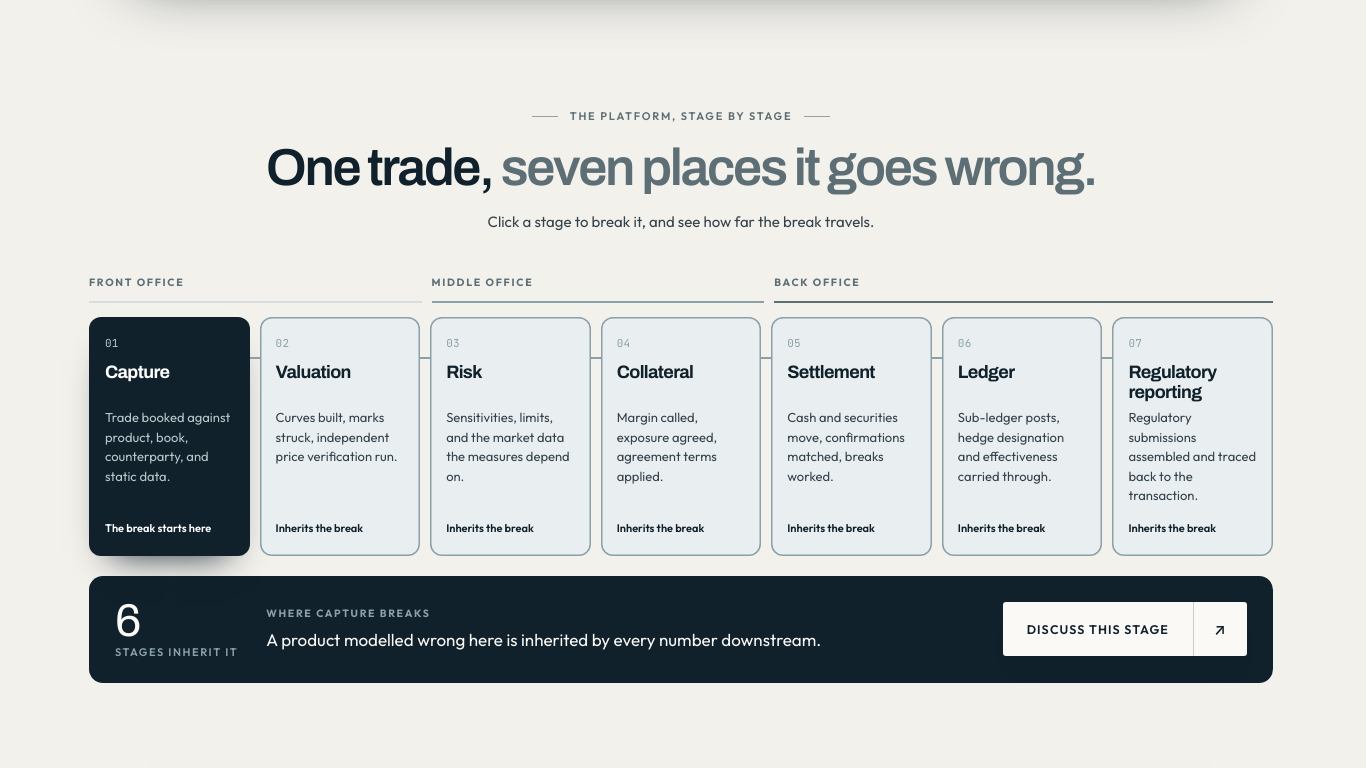
it: Nasdaq Calypso page › breaks a stage and shows how far the break travels
(page scrolled)
Expected: the text with test id "lifecycle-count" reads "6", x1=115 y1=596 x2=139 y2=646
Click the button that starts with "Collateral": (681, 436) x1=601 y1=317 x2=761 y2=556
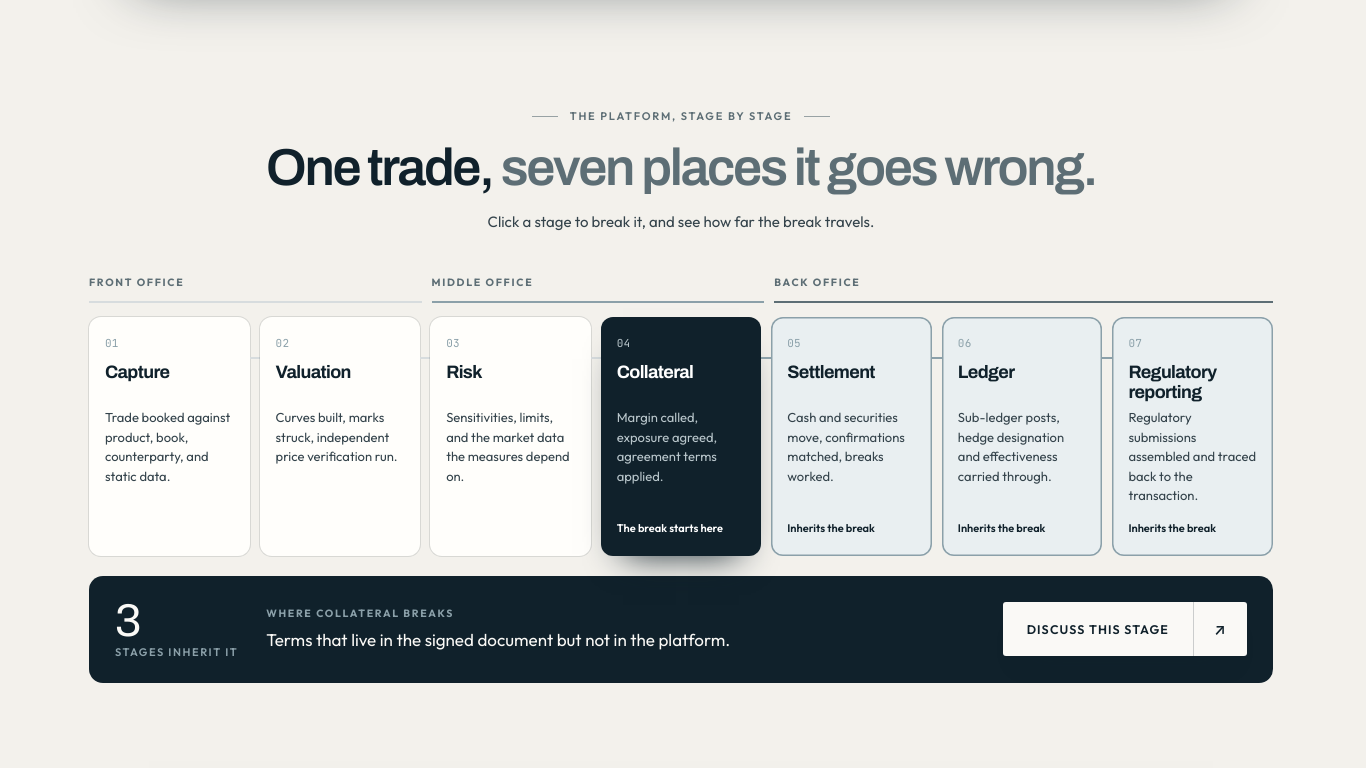
Expected: the text with test id "lifecycle-count" reads "3", x1=115 y1=596 x2=139 y2=646
Expected: the element with test id "lifecycle-readout" shows "WHERE COLLATERAL BREAKS", x1=266 y1=606 x2=730 y2=650
Press Enter in the button that starts with "Regulatory reporting", box x1=1112 y1=317 x2=1273 y2=556
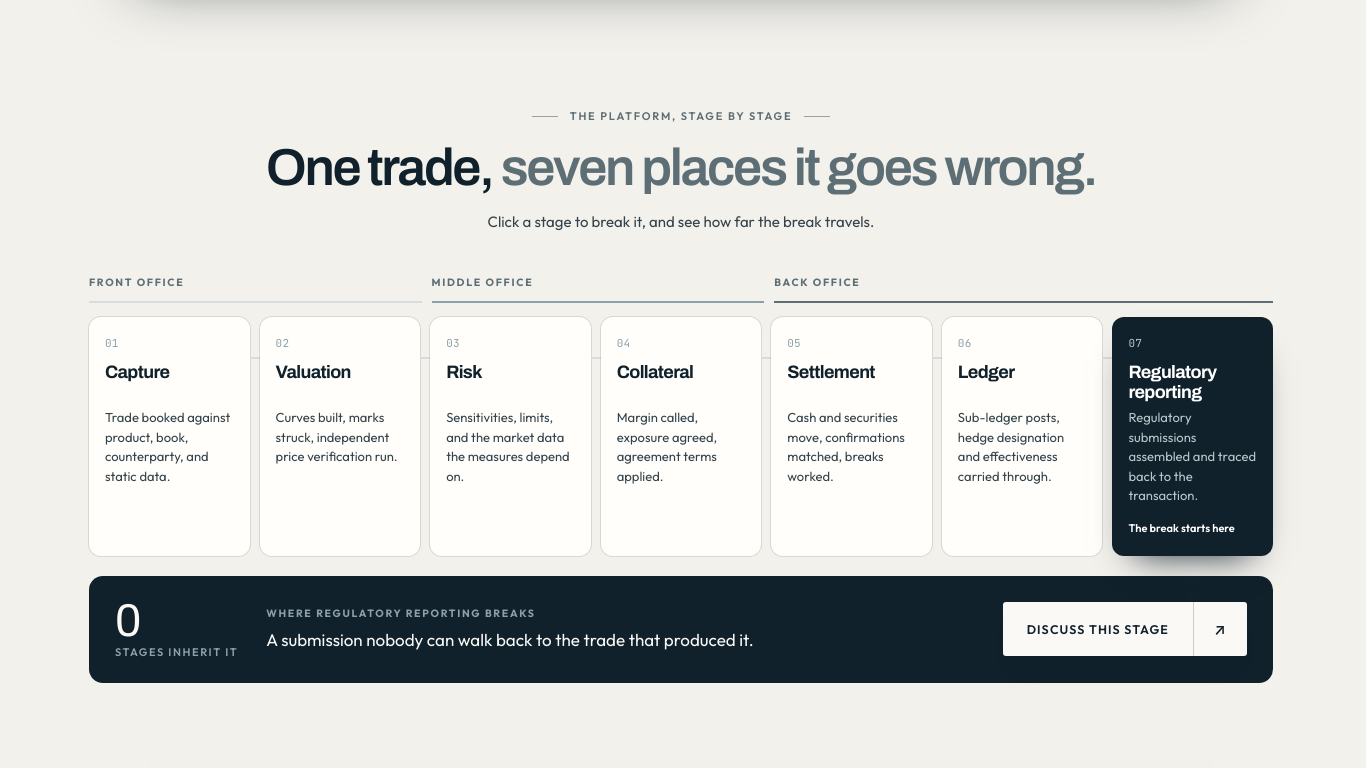
Expected: the text with test id "lifecycle-count" reads "0", x1=115 y1=596 x2=139 y2=646
